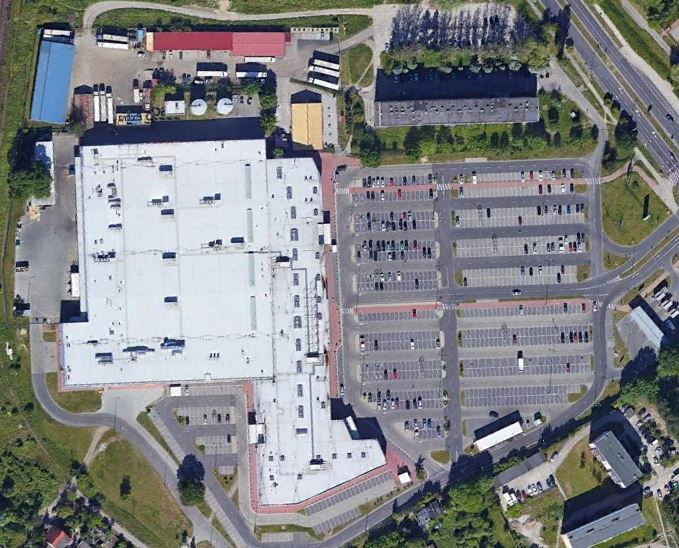block of flats: (373, 92, 545, 129)
shopping_center: (51, 134, 391, 511)
